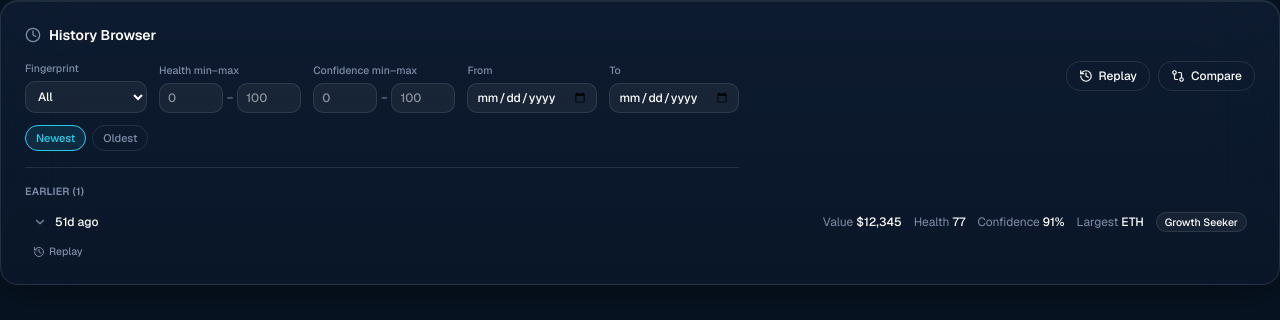
Test: HistoryBrowserSection — Replay › Replay Viewer shows real, stored-only fields — Date/Snapshot index/Fingerprint/Health/Confidence/Portfolio value — never a recomputed value
The width and height of the screenshot is (1280, 320).
Click the button "Replay" in the row of "From" at (1108, 76), box 1066,61 -> 1150,91
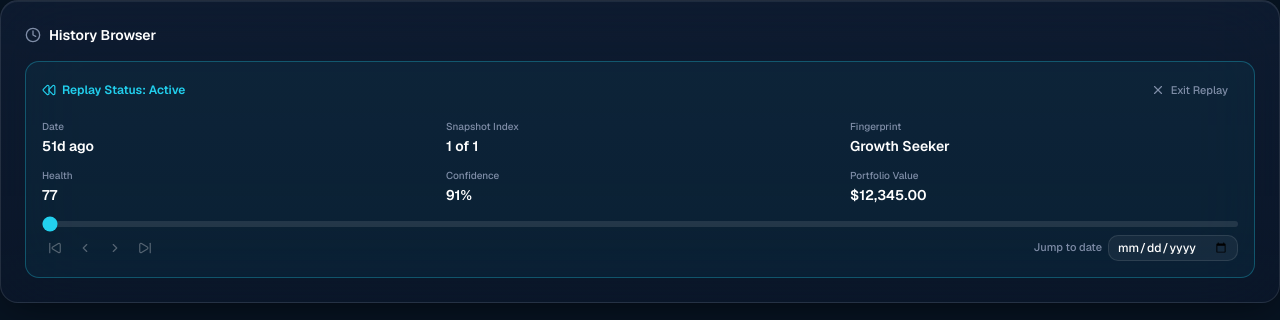
Expected: the text "Growth Seeker" is shown, 850,136 -> 950,154
Expected: the text "$12,345.00" is shown, 850,186 -> 927,204
